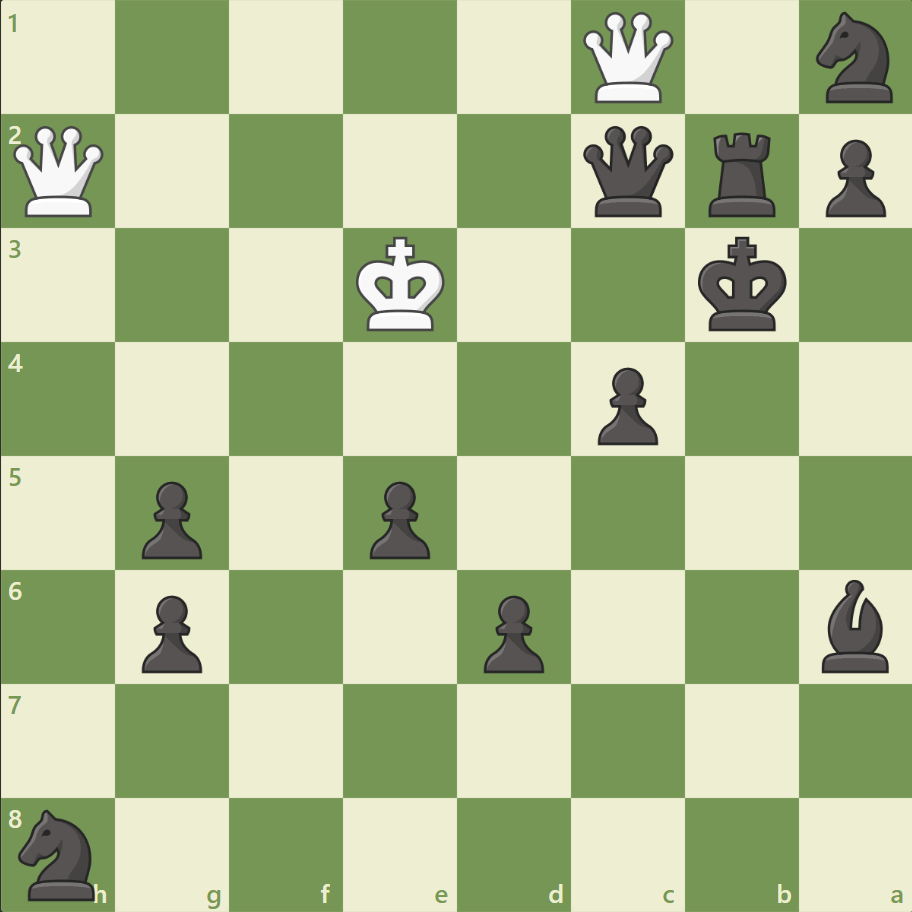K: (351, 231, 451, 339)
Q: (10, 122, 109, 222), (578, 9, 677, 108)
b: (812, 574, 896, 676)
k: (692, 231, 792, 339)
n: (806, 7, 903, 110), (11, 802, 108, 904)
p: (474, 586, 549, 677), (133, 586, 208, 677), (133, 473, 208, 564), (361, 473, 435, 564), (588, 359, 662, 450), (815, 132, 889, 223)
q: (578, 122, 677, 222)
r: (700, 125, 783, 222)
